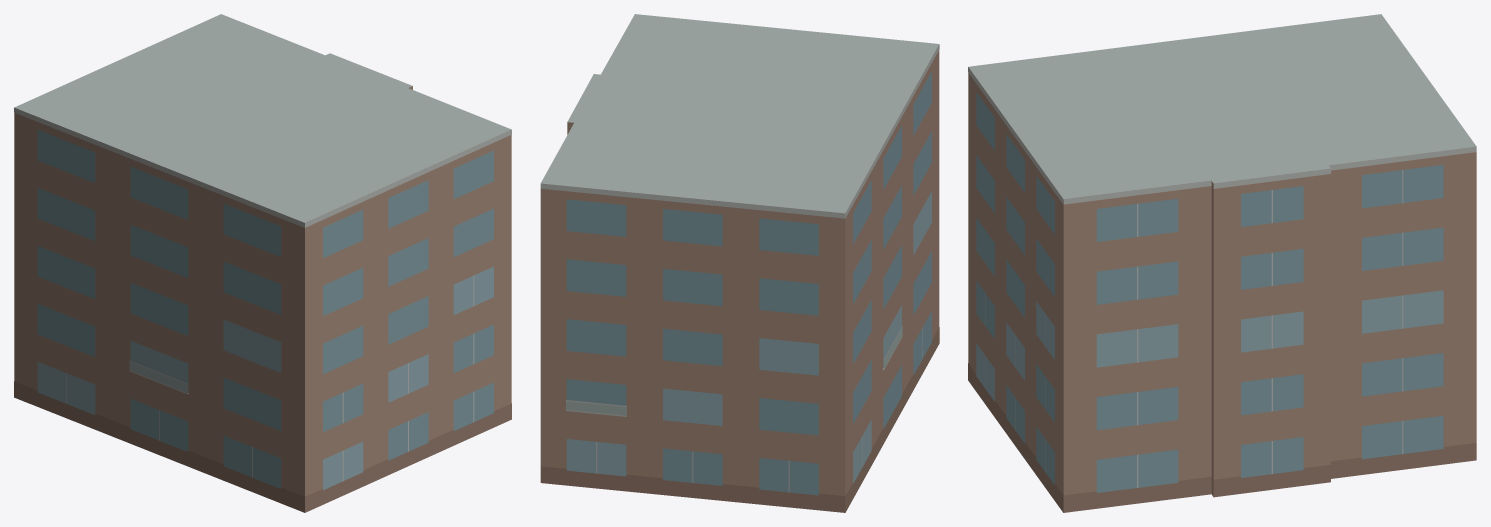
Rendered from survey-upis-32908995.glb.
3 views of the same model, side by side, from view 1: azimuth 30°, elevation 25°; view 2: azimuth 150°, elevation 25°; view 3: azimuth 270°, elevation 25° (orthographic). The views are drawn at different scales.
Visible parts, largest first — view 1: survey-upis-32908995.tmp; view 2: survey-upis-32908995.tmp; view 3: survey-upis-32908995.tmp.
Boxes of the visible parts, x1,y1,x2,y2 form: survey-upis-32908995.tmp: (14, 14, 511, 512); survey-upis-32908995.tmp: (540, 14, 939, 512); survey-upis-32908995.tmp: (968, 14, 1476, 512).
Size of the model in its own units: 17.8 by 14.05 by 20.65.
